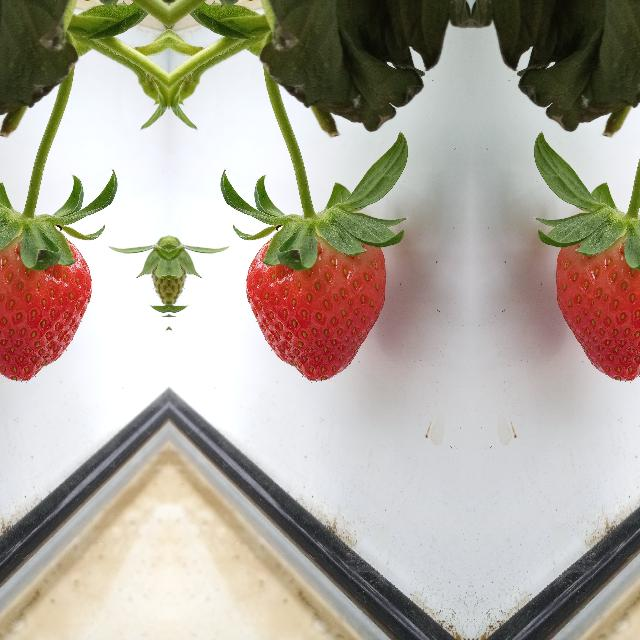Health_100: (244, 229, 388, 383), (0, 229, 92, 383), (553, 229, 640, 383)
